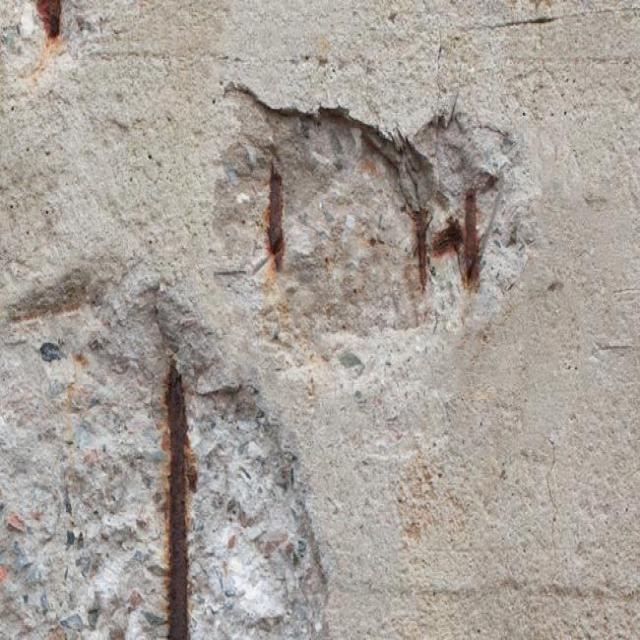Rebar: (0, 257, 335, 639), (214, 79, 540, 392), (0, 0, 88, 97)
diagonal crack: (457, 4, 638, 124)
vertical crack: (421, 0, 443, 112), (542, 433, 558, 560)
